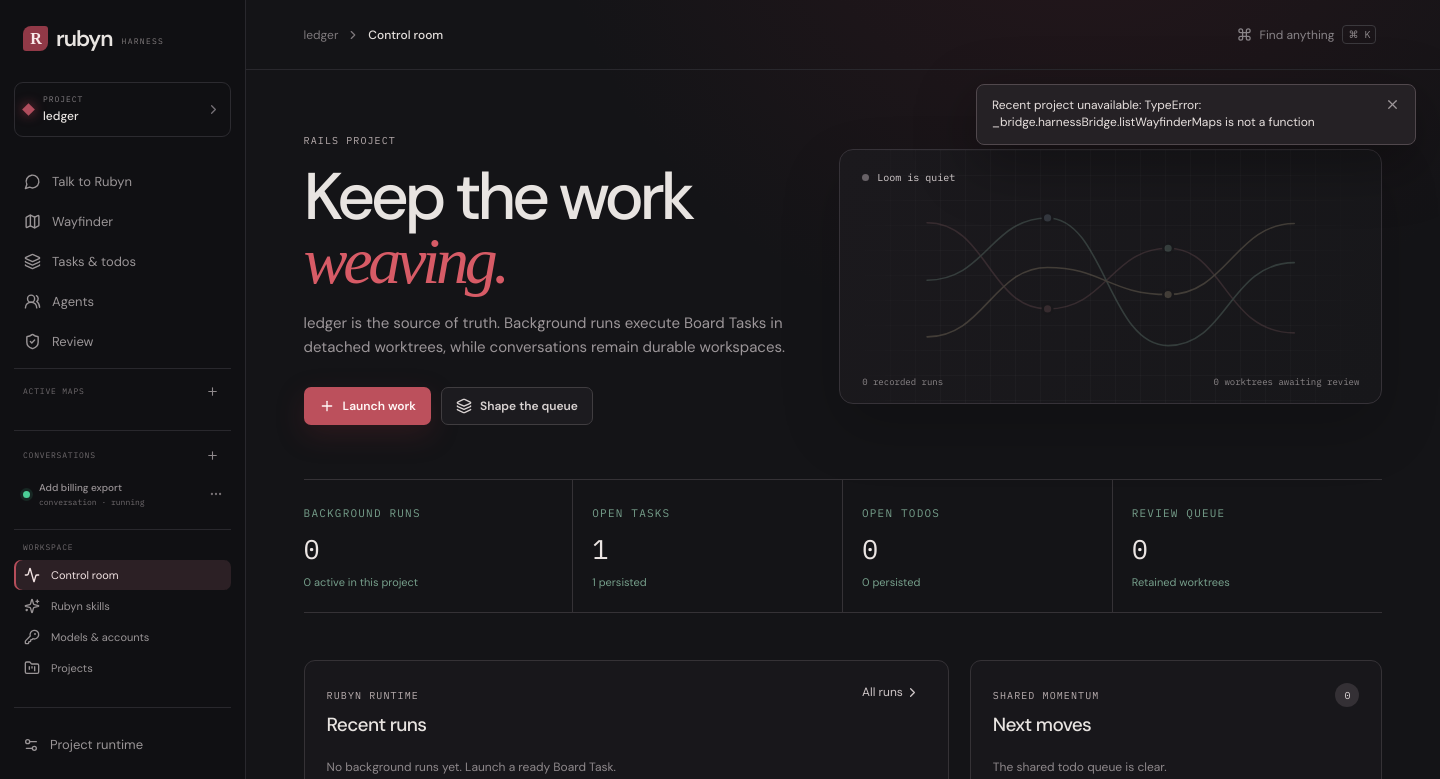
Test: native product flow › uses the configured parallel limit for launch and fan-out capacity
Expected: the text "ledger is the source of truth." is shown, [304,311,795,359]
Click the button "Talk to Rubyn": (122, 182) [14,163,231,200]
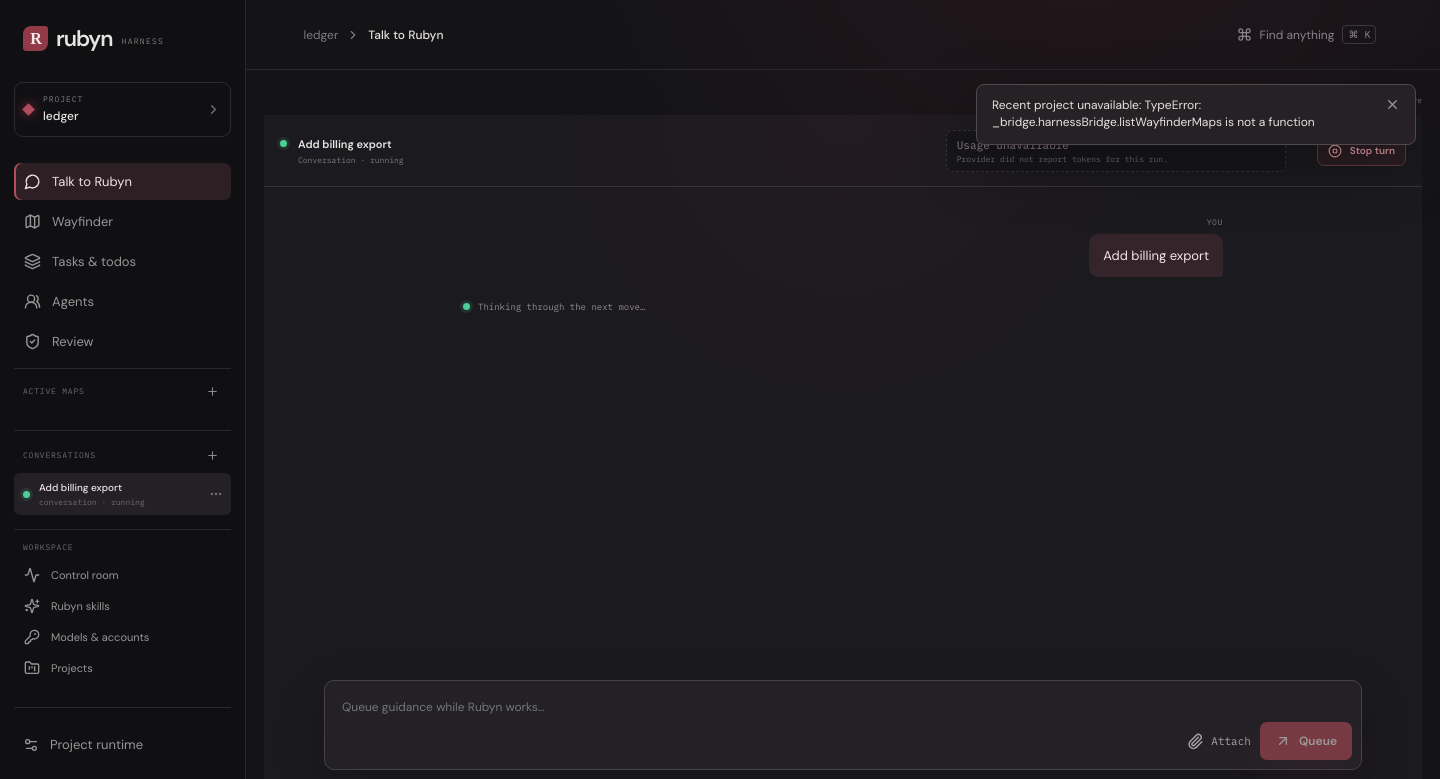
Expected: the button "Plan fan-out" is disabled, [1255,84,1372,115]
Expected: the text "1/1 live" is shown, [1384,94,1422,104]
